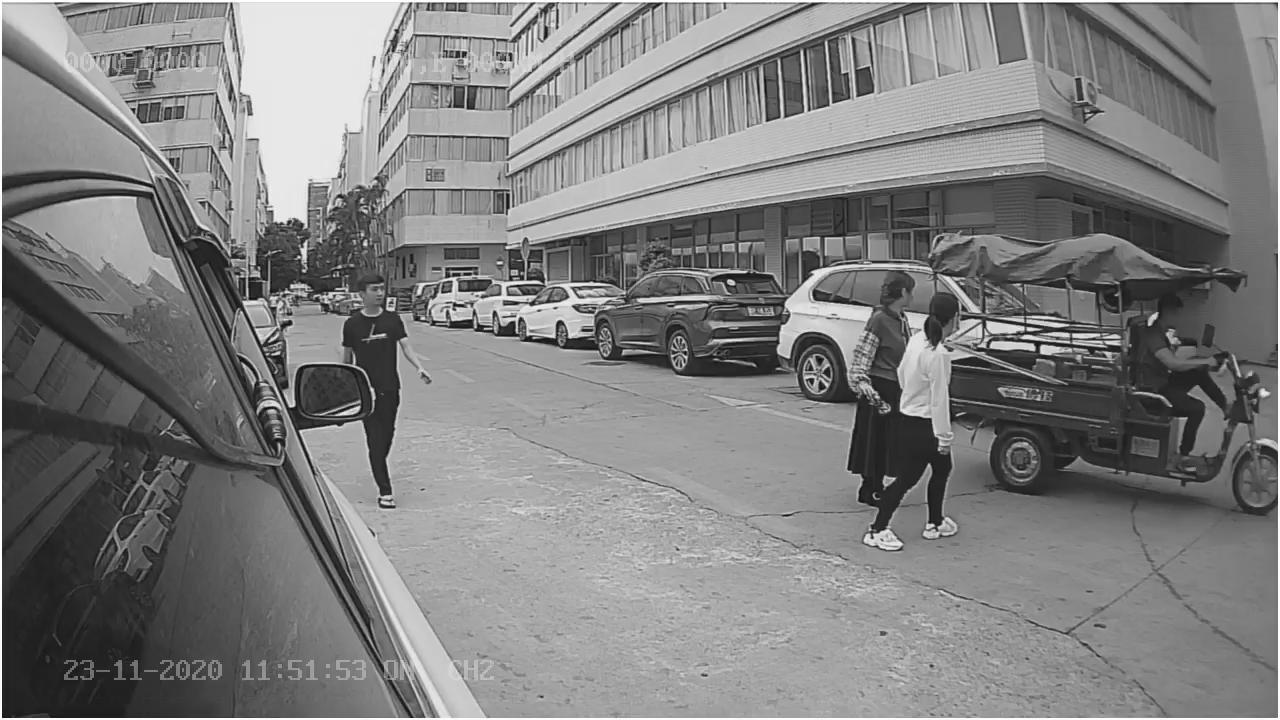person: (864, 287, 971, 551), (1142, 295, 1222, 370)
